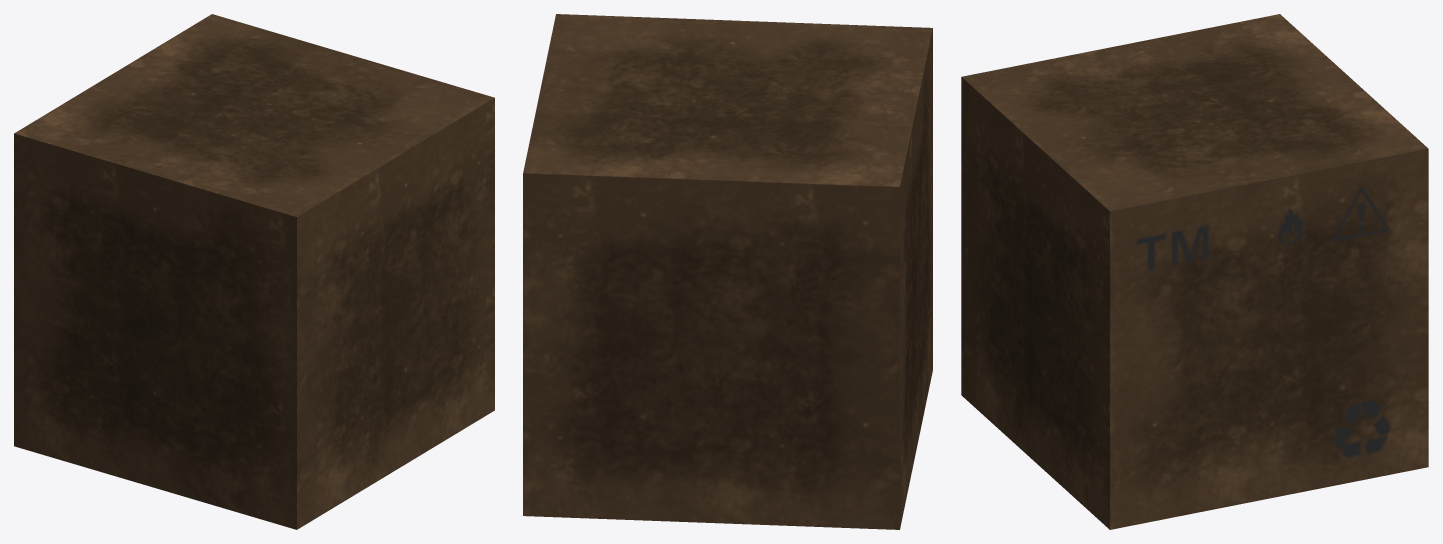
3 views of the same model, side by side, from view 1: azimuth 30°, elevation 25°; view 2: azimuth 150°, elevation 25°; view 3: azimuth 270°, elevation 25° (orthographic). The views are drawn at different scales.
Visible parts, largest first — view 1: Cube_misc_0; view 2: Cube_misc_0; view 3: Cube_misc_0.
Boxes of the visible parts, x1,y1,x2,y2 form: Cube_misc_0: [14, 14, 494, 529]; Cube_misc_0: [523, 14, 932, 529]; Cube_misc_0: [961, 14, 1428, 529].
Size of the model in its own units: 0.3322 by 0.25 by 0.3322.
Materials: 1 (1 with a texture image).
